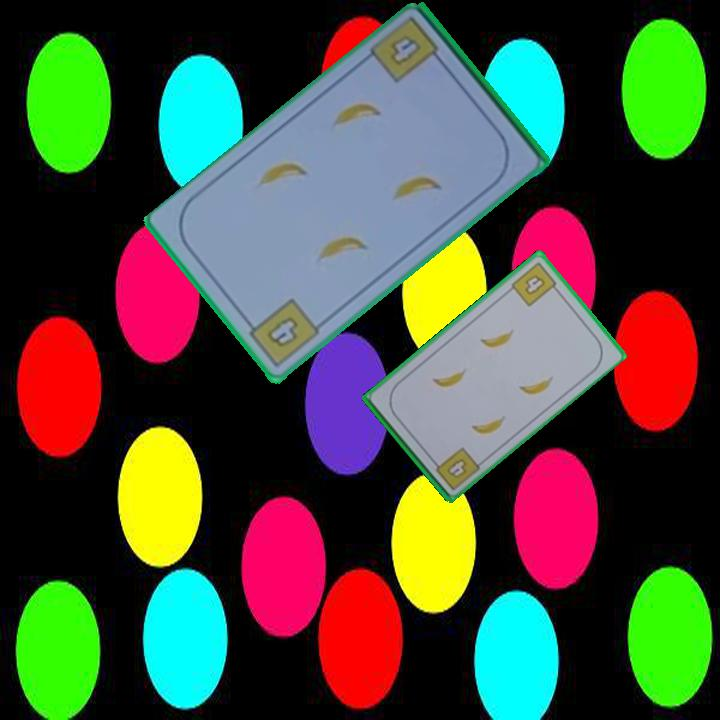4b: (241, 295, 323, 371), (507, 258, 563, 309), (428, 443, 483, 493), (386, 31, 424, 70)
